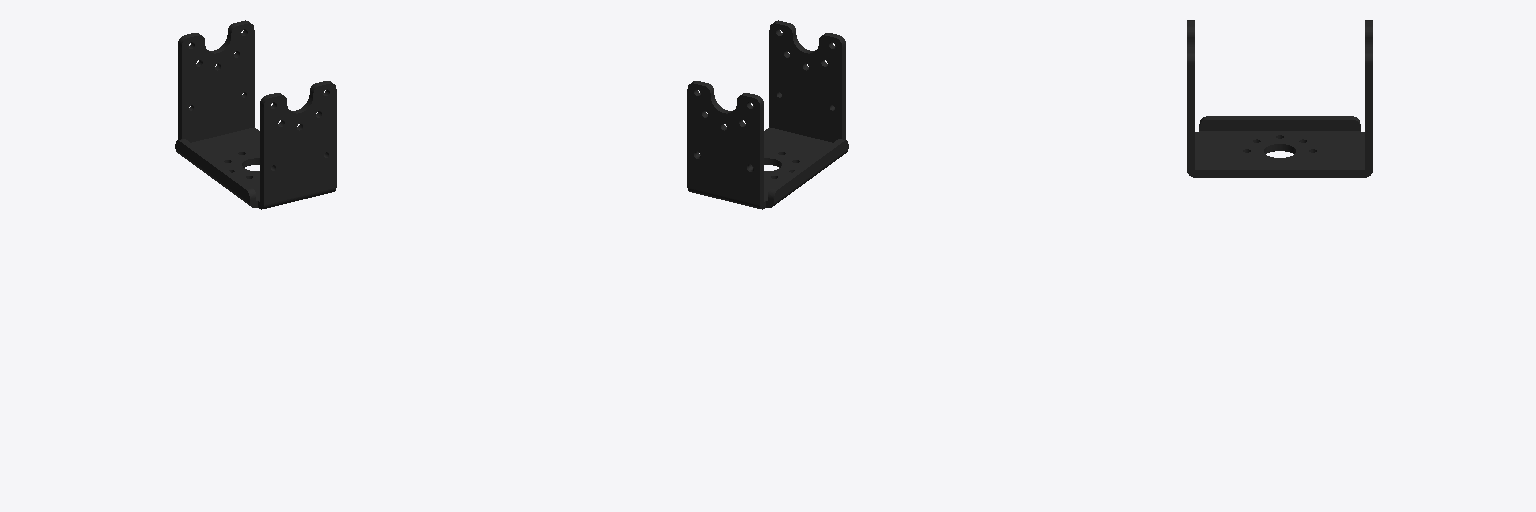
--- Facts derived from the render (not from the file) ---
The picture shows the robot from 3 angles, left to right: view 1: azimuth 30°, elevation 25°; view 2: azimuth 150°, elevation 25°; view 3: azimuth 270°, elevation 25°; orthographic projection.
Model Minibot with 30 links and 29 joints (20 revolute, 9 fixed), rooted at base_link, posed every joint at zero.
Links seen in each view (by area): view 1: L_HEAD_PAN; view 2: L_HEAD_PAN; view 3: L_HEAD_PAN.
Boxes of the visible links, x1,y1,x2,y2 form: L_HEAD_PAN: (175, 20, 336, 209); L_HEAD_PAN: (687, 20, 848, 209); L_HEAD_PAN: (1187, 20, 1372, 177).
Size in the robot's own frame: 24.5 by 45 by 124 metres.
14 mesh visuals loaded from 12 distinct referenced files (6 binary STL, 2 Collada DAE); not drawn: 7 (reference not matched to a file when rendering).

robot.urdf — Minibot:
<?xml version="1.0" ?>
<!-- =================================================================================== -->
<!-- |    This document was autogenerated by xacro from minibot_renamed.urdf.xacro     | -->
<!-- |    EDITING THIS FILE BY HAND IS NOT RECOMMENDED                                 | -->
<!-- =================================================================================== -->
<robot name="Minibot" xmlns:xacro="http://www.ros.org/wiki/xacro">
  <!-- position (0) or effort(1) joint interfaces -->
  <link name="base_link"/>
  <joint name="base_link_to_body" type="fixed">
    <parent link="base_link"/>
    <child link="trunk_link"/>
    <origin rpy="0 0 0" xyz="0 0 0.545"/>
  </joint>
  <link name="trunk_link">
    <inertial>
      <origin rpy=" 1.5707963268 0 1.5707963268" xyz="-0.025019 0.000832 -0.054364"/>
      <mass value="1.423"/>
      <!--<inertia ixx="0.009125471"  ixy="0.000053223"  ixz="-0.000006850" iyy="0.005276569" iyz="0.000672794" izz="0.010426914" />-->
      <inertia ixx="0.009125471" ixy="0.0" ixz="0" iyy="0.005276569" iyz="0.0" izz="0.010426914"/>
      <!--<inertia ixx="0.001"  ixy="0.001"  ixz="0.001" iyy="0.001" iyz="0.001" izz="0.001" />-->
    </inertial>
    <visual>
      <origin rpy="1.5707963268 0 1.5707963268" xyz="0 0 0"/>
      <geometry>
        <mesh filename="package://minibot_description/meshes/torso_low.dae" scale="1 1 1"/>
      </geometry>
      <material name="Grey">
        <color rgba="0.20 0.20 0.20 1.0"/>
      </material>
    </visual>
    <collision>
      <origin rpy="1.5707963268 0 1.5707963268" xyz="0 0 0"/>
      <geometry>
        <mesh filename="package://minibot_description/meshes/torso_coll.dae" scale="1 1 1"/>
      </geometry>
    </collision>
     --&gt;
  
  </link>
  <link name="L_HEAD_PAN">
    <inertial>
      <origin xyz="0.000002 -0.001022 0.008994"/>
      <mass value="0.001"/>
      <inertia ixx="0" ixy="0" ixz="0" iyy="0" iyz="0" izz="0"/>
      <!--<mass value="0.012"/>-->
      <!--<inertia ixx="0.000001769"  ixy="0.0"  ixz="0.0" iyy="0.000004625" iyz="-0.000000082" izz="0.000005125" />-->
      <!--<inertia ixx="${insu*0.1+infa*0.000001769}"  ixy="0.0"  ixz="0" iyy="${insu*0.1+infa*0.000004625}" iyz="0.0" izz="${insu*0.1+infa*0.000005125}" />-->
      <!--<inertia ixx="0.001"  ixy="0.001"  ixz="0.001" iyy="0.001" iyz="0.001" izz="0.001" />-->
    </inertial>
    <visual>
      <origin rpy="1.5707963268 0 0" xyz="0 0 0"/>
      <geometry>
        <mesh filename="package://minibot_description/meshes/head_lower_high.stl" scale="1 1 1"/>
      </geometry>
      <material name="Grey">
        <color rgba="0.20 0.20 0.20 1.0"/>
      </material>
    </visual>
    <collision>
      <origin rpy="1.5707963268 0 0" xyz="0 0 0"/>
      <geometry>
        <mesh filename="package://minibot_description/meshes/head_lower_coll.dae" scale="1 1 1"/>
      </geometry>
    </collision>
  </link>
  <link name="L_HEAD_TILT">
    <inertial>
      <origin rpy="0 1.5707963268 0" xyz="-0.000223 -0.028433 0.0"/>
      <mass value="0.001"/>
      <inertia ixx="0" ixy="0" ixz="0" iyy="0" iyz="0" izz="0"/>
      <!--<mass value="0.139"/>
      <inertia ixx="${insu*0.1+infa*0.000097954}"  ixy="0"  ixz="0" iyy="${insu*0.1+infa*0.000025415}" iyz="0" izz="${insu*0.1+infa*0.000107764}" /> -->
      <!--<inertia ixx="0.001"  ixy="0.001"  ixz="0.001" iyy="0.001" iyz="0.001" izz="0.001" />-->
    </inertial>
    <visual>
      <origin rpy="3.14 1.5707963268 0" xyz="0 0 0"/>
      <geometry>
        <mesh filename="package://minibot_description/meshes/head_upper_high.stl" scale="1 1 1"/>
      </geometry>
      <material name="Grey">
        <color rgba="0.20 0.20 0.20 1.0"/>
      </material>
    </visual>
    <collision>
      <origin rpy="3.14 1.5707963268 0" xyz="0 0 0"/>
      <geometry>
        <mesh filename="package://minibot_description/meshes/head_upper_coll.dae" scale="1 1 1"/>
      </geometry>
    </collision>
  </link>
  <link name="L_SHOULDER_PITCH_L">
    <inertial>
      <origin xyz="0.0 0.0 0.0087"/>
      <mass value="0.018"/>
      <inertia ixx="6.948e-06" ixy="0" ixz="0" iyy="7.574e-06" iyz="0" izz="3.585e-06"/>
      <!--<inertia ixx="0.001"  ixy="0.001"  ixz="0.001" iyy="0.001" iyz="0.001" izz="0.001" />-->
    </inertial>
    <visual>
      <origin rpy="0 1.5707963268 1.5707963268" xyz="0 0 0"/>
      <geometry>
        <!--box size="0.016 0.033 0.02165" /-->
        <mesh filename="package://minibot_description/meshes/shoulder_con_high.stl" scale="1 1 1"/>
      </geometry>
      <material name="Grey">
        <color rgba="0.20 0.20 0.20 1.0"/>
      </material>
    </visual>
    <collision>
      <origin rpy="0 1.5707963268 1.5707963268" xyz="0 0 0"/>
      <geometry>
        <mesh filename="package://minibot_description/meshes/shoulder_con_coll.dae" scale="1 1 1"/>
      </geometry>
    </collision>
  </link>
  <link name="L_SHOULDER_ROLL_L">
    <inertial>
      <origin xyz="-0.071053 0.000432 0.000046"/>
      <mass value="0.190"/>
      <!--<inertia ixx="0.0000409"  ixy="-0.000005512"  ixz="0.000003819" iyy="0.000667366" iyz="0.000000024" izz="0.000664711" />-->
      <inertia ixx="4.09e-05" ixy="0" ixz="0" iyy="0.000667366" iyz="0" izz="0.000664711"/>
      <!--<inertia ixx="0.001"  ixy="0.001"  ixz="0.001" iyy="0.001" iyz="0.001" izz="0.001" />-->
    </inertial>
    <visual>
      <origin rpy="0 0 -1.5707963268" xyz="0 0 0"/>
      <geometry>
        <mesh filename="package://minibot_description/meshes/upper_arm_high.dae" scale="1 1 1"/>
      </geometry>
      <material name="Grey">
        <color rgba="0.20 0.20 0.20 1.0"/>
      </material>
    </visual>
    <collision>
      <origin rpy="0 0 -1.5707963268" xyz="0 0 0"/>
      <geometry>
        <mesh filename="package://minibot_description/meshes/upper_arm_coll.dae" scale="1 1 1"/>
      </geometry>
    </collision>
  </link>
  <link name="L_ELBOW_L">
    <inertial>
      <origin rpy="0 0 -3.141" xyz="-0.108 0.0 0.0"/>
      <mass value="0.097"/>
      <inertia ixx="4.315e-05" ixy="0" ixz="0" iyy="0.000170889" iyz="0" izz="0.000179088"/>
      <!--<inertia ixx="0.001"  ixy="0.001"  ixz="0.001" iyy="0.001" iyz="0.001" izz="0.001" />-->
    </inertial>
    <visual>
      <origin rpy="0 1.5707963268 -1.5707963268" xyz="0 0 0"/>
      <geometry>
        <mesh filename="package://minibot_description/meshes/lower_arm_high.stl" scale="1 1 1"/>
      </geometry>
      <material name="Grey">
        <color rgba="0.20 0.20 0.20 1.0"/>
      </material>
    </visual>
    <collision>
      <origin rpy="0 1.5707963268 -1.5707963268" xyz="0 0 0"/>
      <geometry>
        <mesh filename="package://minibot_description/meshes/lower_arm_coll.dae" scale="1 1 1"/>
      </geometry>
    </collision>
  </link>
  <link name="L_SHOULDER_PITCH_R">
    <inertial>
      <origin xyz="0.0 0.0 0.0087"/>
      <mass value="0.018"/>
      <inertia ixx="6.948e-06" ixy="0" ixz="0" iyy="7.574e-06" iyz="0" izz="3.585e-06"/>
      <!--<inertia ixx="0.001"  ixy="0.001"  ixz="0.001" iyy="0.001" iyz="0.001" izz="0.001" />-->
    </inertial>
    <visual>
      <origin rpy="0 1.5707963268 1.5707963268" xyz="0 0 0"/>
      <geometry>
        <!--box size="0.016 0.033 0.02165" /-->
        <mesh filename="package://minibot_description/meshes/shoulder_con_high.stl" scale="1 1 1"/>
      </geometry>
      <material name="Grey">
        <color rgba="0.20 0.20 0.20 1.0"/>
      </material>
    </visual>
    <collision>
      <origin rpy="0 1.5707963268 1.5707963268" xyz="0 0 0"/>
      <geometry>
        <mesh filename="package://minibot_description/meshes/shoulder_con_coll.dae" scale="1 1 1"/>
      </geometry>
    </collision>
  </link>
  <link name="L_SHOULDER_ROLL_R">
    <inertial>
      <origin xyz="-0.071053 0.000432 0.000046"/>
      <mass value="0.190"/>
      <!--<inertia ixx="0.0000409"  ixy="-0.000005512"  ixz="0.000003819" iyy="0.000667366" iyz="0.000000024" izz="0.000664711" />-->
      <inertia ixx="4.09e-05" ixy="0" ixz="0" iyy="0.000667366" iyz="0" izz="0.000664711"/>
      <!--<inertia ixx="0.001"  ixy="0.001"  ixz="0.001" iyy="0.001" iyz="0.001" izz="0.001" />-->
    </inertial>
    <visual>
      <origin rpy="0 0 -1.5707963268" xyz="0 0 0"/>
      <geometry>
        <!--box size="0.06 0.032 0.035"/-->
        <mesh filename="package://minibot_description/meshes/upper_arm_high.dae" scale="1 1 1"/>
      </geometry>
      <material name="Grey">
        <color rgba="0.20 0.20 0.20 1.0"/>
      </material>
    </visual>
    <collision>
      <origin rpy="0 0 -1.5707963268" xyz="0 0 0"/>
      <geometry>
        <mesh filename="package://minibot_description/meshes/upper_arm_coll.dae" scale="1 1 1"/>
      </geometry>
    </collision>
  </link>
  <link name="L_ELBOW_R">
    <inertial>
      <!--<origin xyz="0.108 0.0 0.0" rpy="0 1.5707963268 1.5707963268"/>-->
      <origin xyz="0.108 0.0 0.0"/>
      <mass value="0.097"/>
      <inertia ixx="4.315e-05" ixy="0" ixz="0" iyy="0.000170889" iyz="0" izz="0.000179088"/>
      <!--<inertia ixx="0.001"  ixy="0.001"  ixz="0.001" iyy="0.001" iyz="0.001" izz="0.001" />-->
    </inertial>
    <visual>
      <origin rpy="0 1.5707963268 1.5707963268" xyz="0 0 0"/>
      <geometry>
        <mesh filename="package://minibot_description/meshes/lower_arm_high.stl" scale="1 1 1"/>
      </geometry>
      <material name="Grey">
        <color rgba="0.20 0.20 0.20 1.0"/>
      </material>
    </visual>
    <collision>
      <origin rpy="0 1.5707963268 1.5707963268" xyz="0 0 0"/>
      <geometry>
        <mesh filename="package://minibot_description/meshes/lower_arm_coll.dae" scale="1 1 1"/>
      </geometry>
    </collision>
  </link>
  <link name="L_HIP_YAW_L">
    <inertial>
      <origin rpy="1.5707963268 0 1.5707963268" xyz="0.0 0.0 0.011"/>
      <mass value="0.022"/>
      <inertia ixx="1.4143e-05" ixy="0" ixz="0" iyy="1.3017e-05" iyz="0" izz="5.2e-06"/>
      <!--<inertia ixx="0.001"  ixy="0.001"  ixz="0.001" iyy="0.001" iyz="0.001" izz="0.001" />-->
    </inertial>
    <visual>
      <origin rpy="1.5707963268 0 0" xyz="0 0 0"/>
      <geometry>
        <!--box size="0.045 0.08175 0.028652" /-->
        <mesh filename="package://minibot_description/meshes/yaw_con_high.stl" scale="1 1 1"/>
      </geometry>
      <material name="Grey">
        <color rgba="0.20 0.20 0.20 1.0"/>
      </material>
    </visual>
    <collision>
      <origin rpy="1.5707963268 0 0" xyz="0 0 0"/>
      <geometry>
        <mesh filename="package://minibot_description/meshes/yaw_con_coll.dae" scale="1 1 1"/>
      </geometry>
    </collision>
  </link>
  <link name="L_HIP_ROLL_L">
    <inertial>
      <origin xyz="-0.00057 -0.013721 0.02013 "/>
      <mass value="0.325"/>
      <!--<inertia ixx="0.000315619"  ixy="0.000001631"  ixz="0.000002302" iyy="0.000280296" iyz="-0.000009041" izz="0.0001431" />-->
      <inertia ixx="0.000315619" ixy="0" ixz="0" iyy="0.000280296" iyz="0" izz="0.0001431"/>
      <!--<inertia ixx="0.001"  ixy="0.001"  ixz="0.001" iyy="0.001" iyz="0.001" izz="0.001" />-->
    </inertial>
    <visual>
      <origin rpy="0 3.14 0" xyz="0 0 -0.025"/>
      <geometry>
        <!--box size="0.001 0.001 0.001"/-->
        <mesh filename="package://minibot_description/meshes/hip_roll_low.dae" scale="1 1 1"/>
      </geometry>
      <material name="Grey">
        <color rgba="0.20 0.20 0.20 1.0"/>
      </material>
    </visual>
    <collision>
      <origin rpy="0 3.14 0" xyz="0 0 -0.025"/>
      <geometry>
        <mesh filename="package://minibot_description/meshes/hip_roll_coll.dae" scale="1 1 1"/>
      </geometry>
    </collision>
  </link>
  <link name="L_HIP_PITCH_L">
    <inertial>
      <origin rpy="0 1.5707963268 1.5707963268" xyz="-0.12799 -0.000699 0.000454"/>
      <mass value="0.215"/>
      <!--<inertia ixx="0.000295153"  ixy="-0.000003736"  ixz="-0.000000065" iyy="0.000085463" iyz="-0.000003231" izz="0.000344449" />-->
      <inertia ixx="0.000295153" ixy="0" ixz="0" iyy="8.5463e-05" iyz="0" izz="0.000344449"/>
      <!--<inertia ixx="0.001"  ixy="0.001"  ixz="0.001" iyy="0.001" iyz="0.001" izz="0.001" />-->
    </inertial>
    <visual>
      <origin rpy="1.5707963268 1.5707963268 0" xyz="0 0 0"/>
      <geometry>
        <!--box size="0.093 0.035 0.045"-->
        <mesh filename="package://minibot_description/meshes/upper_leg_high.stl" scale="1 1 1"/>
      </geometry>
      <material name="Grey">
        <color rgba="0.20 0.20 0.20 1.0"/>
      </material>
    </visual>
    <collision>
      <origin rpy="1.5707963268 1.5707963268 0" xyz="0 0 0"/>
      <geometry>
        <mesh filename="package://minibot_description/meshes/upper_leg_coll.dae" scale="1 1 1"/>
      </geometry>
    </collision>
  </link>
  <link name="L_KNEE_L">
    <inertial>
      <origin rpy="0 1.5707963268 1.5707963268" xyz="-0.072079 -0.00295 0.0"/>
      <mass value="0.055"/>
      <!--<inertia ixx="0.000094062"  ixy="0.0"  ixz="0.0" iyy="0.000043139" iyz="-0.000002344" izz="0.000125827" />-->
      <inertia ixx="9.4062e-05" ixy="0" ixz="0" iyy="4.3139e-05" iyz="0" izz="0.000125827"/>
      <!--<inertia ixx="0.001"  ixy="0.001"  ixz="0.001" iyy="0.001" iyz="0.001" izz="0.001" />-->
    </inertial>
    <visual>
      <origin rpy="1.5707963268 1.5707963268 0" xyz="0 0 0"/>
      <geometry>
        <!--box size="0.093 0.035 0.045"/-->
        <mesh filename="package://minibot_description/meshes/lower_leg_high.stl" scale="1 1 1"/>
      </geometry>
      <material name="Grey">
        <color rgba="0.20 0.20 0.20 1.0"/>
      </material>
    </visual>
    <collision>
      <origin rpy="1.5707963268 1.5707963268 0" xyz="0 0 0"/>
      <geometry>
        <mesh filename="package://minibot_description/meshes/lower_leg_coll.dae" scale="1 1 1"/>
      </geometry>
    </collision>
  </link>
  <link name="L_ANKLE_PITCH_L">
    <inertial>
      <origin rpy="1.5707963268 1.5707963268 0" xyz="0.014045 -0.020134 -0.000053"/>
      <mass value="0.325"/>
      <!--<inertia ixx="0.00041644"  ixy="-0.000001658"  ixz="0.000002316" iyy="0.0002803" iyz="0.0000095" izz="0.000144" />-->
      <inertia ixx="0.000315619" ixy="0" ixz="0" iyy="0.000280296" iyz="0" izz="0.0001431"/>
      <!--<inertia ixx="0.001"  ixy="0.001"  ixz="0.001" iyy="0.001" iyz="0.001" izz="0.001" />-->
    </inertial>
    <visual>
      <origin rpy="3.14 -1.5707963268 1.5707963268" xyz="0 0 0"/>
      <geometry>
        <!--box size="0.028652 0.08175 0.045"/-->
        <mesh filename="package://minibot_description/meshes/ankle_roll_low.dae" scale="1 1 1"/>
      </geometry>
      <material name="Grey">
        <color rgba="0.20 0.20 0.20 1.0"/>
      </material>
    </visual>
    <collision>
      <origin rpy="3.14 -1.5707963268 1.5707963268" xyz="0 0 0"/>
      <geometry>
        <mesh filename="package://minibot_description/meshes/ankle_roll_coll.dae" scale="1 1 1"/>
      </geometry>
    </collision>
  </link>
  <link name="L_ANKLE_ROLL_L">
    <inertial>
      <origin rpy="0 0 1.5707963268" xyz="-0.0364 0.0003 0.002423"/>
      <mass value="0.086"/>
      <inertia ixx="0.000165687" ixy="0" ixz="0" iyy="0.000197792" iyz="0" izz="4.318e-05"/>
      <!--<inertia ixx="0.001"  ixy="0.001"  ixz="0.001" iyy="0.001" iyz="0.001" izz="0.001" />-->
    </inertial>
    <visual>
      <origin rpy="0 0 -1.5707963268" xyz="0 0 -0.025"/>
      <geometry>
        <!--box size="0.008 0.066 0.104"/-->
        <mesh filename="package://minibot_description/meshes/foot_high.stl" scale="1 1 1"/>
      </geometry>
      <material name="Grey">
        <color rgba="0.20 0.20 0.20 1.0"/>
      </material>
    </visual>
    <collision>
      <origin rpy="0 0 -1.5707963268" xyz="0 0 -0.025"/>
      <geometry>
        <mesh filename="package://minibot_description/meshes/foot_coll.dae" scale="1 1 1"/>
      </geometry>
    </collision>
  </link>
  <link name="L_HIP_YAW_R">
    <inertial>
      <origin rpy="1.5707963268 0 1.5707963268" xyz="0.0 0.0 0.011"/>
      <mass value="0.022"/>
      <inertia ixx="1.4143e-05" ixy="0" ixz="0" iyy="1.3017e-05" iyz="0" izz="5.2e-06"/>
      <!--<inertia ixx="0.001"  ixy="0.001"  ixz="0.001" iyy="0.001" iyz="0.001" izz="0.001" />-->
    </inertial>
    <visual>
      <origin rpy="1.5707963268 0 0" xyz="0 0 0"/>
      <geometry>
        <!--box size="0.045 0.08175 0.028652" /-->
        <mesh filename="package://minibot_description/meshes/yaw_con_high.stl" scale="1 1 1"/>
      </geometry>
      <material name="Grey">
        <color rgba="0.20 0.20 0.20 1.0"/>
      </material>
    </visual>
    <collision>
      <origin rpy="1.5707963268 0 0" xyz="0 0 0"/>
      <geometry>
        <mesh filename="package://minibot_description/meshes/yaw_con_coll.dae" scale="1 1 1"/>
      </geometry>
    </collision>
  </link>
  <link name="L_HIP_ROLL_R">
    <inertial>
      <origin xyz="-0.00057 -0.013721 0.02013 "/>
      <mass value="0.325"/>
      <!--<inertia ixx="0.000315619"  ixy="0.000001631"  ixz="0.000002302" iyy="0.000280296" iyz="-0.000009041" izz="0.0001431" />-->
      <inertia ixx="0.000315619" ixy="0" ixz="0" iyy="0.000280296" iyz="0" izz="0.0001431"/>
      <!--<inertia ixx="0.001"  ixy="0.001"  ixz="0.001" iyy="0.001" iyz="0.001" izz="0.001" />-->
    </inertial>
    <visual>
      <origin rpy="0 3.14 0" xyz="0 0 -0.025"/>
      <geometry>
        <!--box size="0.001 0.001 0.001"/-->
        <mesh filename="package://minibot_description/meshes/hip_roll_low.dae" scale="1 1 1"/>
      </geometry>
      <material name="Grey">
        <color rgba="0.20 0.20 0.20 1.0"/>
      </material>
    </visual>
    <collision>
      <origin rpy="0 3.14 0" xyz="0 0 -0.025"/>
      <geometry>
        <mesh filename="package://minibot_description/meshes/hip_roll_coll.dae" scale="1 1 1"/>
      </geometry>
    </collision>
  </link>
  <link name="L_HIP_PITCH_R">
    <inertial>
      <origin rpy="0 1.5707963268 1.5707963268" xyz="0.12799 -0.000699 0.000454"/>
      <mass value="0.215"/>
      <!--<inertia ixx="0.000295153"  ixy="-0.000003736"  ixz="-0.000000065" iyy="0.000085463" iyz="-0.000003231" izz="0.000344449" />-->
      <inertia ixx="0.000295153" ixy="0" ixz="0" iyy="8.5463e-05" iyz="0" izz="0.000344449"/>
      <!--<inertia ixx="0.001"  ixy="0.001"  ixz="0.001" iyy="0.001" iyz="0.001" izz="0.001" />-->
    </inertial>
    <visual>
      <origin rpy="1.5707963268 -1.5707963268 0" xyz="0 0 0"/>
      <geometry>
        <!--box size="0.093 0.035 0.045"/-->
        <mesh filename="package://minibot_description/meshes/upper_leg_high.stl" scale="1 1 1"/>
      </geometry>
      <material name="Grey">
        <color rgba="0.20 0.20 0.20 1.0"/>
      </material>
    </visual>
    <collision>
      <origin rpy="1.5707963268 -1.5707963268 0" xyz="0 0 0"/>
      <geometry>
        <mesh filename="package://minibot_description/meshes/upper_leg_coll.dae" scale="1 1 1"/>
      </geometry>
    </collision>
  </link>
  <link name="L_KNEE_R">
    <inertial>
      <origin rpy="0 1.5707963268 1.5707963268" xyz="0.072079 -0.00295 0.0"/>
      <mass value="0.055"/>
      <!--<inertia ixx="0.000094062"  ixy="0.0"  ixz="0.0" iyy="0.000043139" iyz="-0.000002344" izz="0.000125827" />-->
      <inertia ixx="9.4062e-05" ixy="0" ixz="0" iyy="4.3139e-05" iyz="0" izz="0.000125827"/>
      <!--<inertia ixx="0.001"  ixy="0.001"  ixz="0.001" iyy="0.001" iyz="0.001" izz="0.001" />-->
    </inertial>
    <visual>
      <origin rpy="1.5707963268 -1.5707963268 0" xyz="0 0 0"/>
      <geometry>
        <!--box size="0.093 0.035 0.045"/-->
        <mesh filename="package://minibot_description/meshes/lower_leg_high.stl" scale="1 1 1"/>
      </geometry>
      <material name="Grey">
        <color rgba="0.20 0.20 0.20 1.0"/>
      </material>
    </visual>
    <collision>
      <origin rpy="1.5707963268 -1.5707963268 0" xyz="0 0 0"/>
      <geometry>
        <mesh filename="package://minibot_description/meshes/lower_leg_coll.dae" scale="1 1 1"/>
      </geometry>
    </collision>
  </link>
  <link name="L_ANKLE_PITCH_R">
    <inertial>
      <origin rpy="1.5707963268 1.5707963268 0" xyz="-0.014045 -0.020134 -0.000053"/>
      <mass value="0.325"/>
      <!--<inertia ixx="0.00041644"  ixy="-0.000001658"  ixz="0.000002316" iyy="0.0002803" iyz="0.0000095" izz="0.000144" />-->
      <inertia ixx="0.000315619" ixy="0" ixz="0" iyy="0.000280296" iyz="0" izz="0.0001431"/>
      <!--<inertia ixx="0.001"  ixy="0.001"  ixz="0.001" iyy="0.001" iyz="0.001" izz="0.001" />-->
    </inertial>
    <visual>
      <origin rpy="0 1.5707963268 1.5707963268" xyz="0 0 0"/>
      <geometry>
        <!--box size="0.028652 0.08175 0.045"/-->
        <mesh filename="package://minibot_description/meshes/ankle_roll_low.dae" scale="1 1 1"/>
      </geometry>
      <material name="Grey">
        <color rgba="0.20 0.20 0.20 1.0"/>
      </material>
    </visual>
    <collision>
      <origin rpy="0 1.5707963268 1.5707963268" xyz="0 0 0"/>
      <geometry>
        <mesh filename="package://minibot_description/meshes/ankle_roll_coll.dae" scale="1 1 1"/>
      </geometry>
    </collision>
  </link>
  <link name="L_ANKLE_ROLL_R">
    <inertial>
      <origin rpy="0 0 1.5707963268" xyz="0.0364 0.0003 0.002423"/>
      <mass value="0.086"/>
      <inertia ixx="0.000165687" ixy="0" ixz="0" iyy="0.000197792" iyz="0" izz="4.318e-05"/>
      <!--<inertia ixx="0.001"  ixy="0.001"  ixz="0.001" iyy="0.001" iyz="0.001" izz="0.001" />-->
    </inertial>
    <visual>
      <origin rpy="0 0 1.5707963268" xyz="0 0 -0.025"/>
      <geometry>
        <!--box size="0.008 0.066 0.104"/-->
        <mesh filename="package://minibot_description/meshes/foot_high.stl" scale="1 1 1"/>
      </geometry>
      <material name="Grey">
        <color rgba="0.20 0.20 0.20 1.0"/>
      </material>
    </visual>
    <collision>
      <origin rpy="0 0 1.5707963268" xyz="0 0 -0.025"/>
      <geometry>
        <mesh filename="package://minibot_description/meshes/foot_coll.dae" scale="1 1 1"/>
      </geometry>
    </collision>
  </link>
  <link name="L_CAMERA"/>
  <link name="L_Hand_L"/>
  <link name="L_Hand_R"/>
  <link name="left_foot_sole_link"/>
  <link name="right_foot_sole_link"/>
  <link name="L_FOOT_FRONT_L"/>
  <link name="L_FOOT_FRONT_R"/>
  <link name="L_IMU">
  </link>
  <joint name="j_imu" type="fixed">
    <parent link="trunk_link"/>
    <child link="L_IMU"/>
    <origin rpy="0 0 0" xyz="-0.03 0 -0.05"/>
    <axis xyz="0 0 1"/>
  </joint>
  <joint name="j_camboard" type="fixed">
    <parent link="L_HEAD_TILT"/>
    <child link="L_CAMERA"/>
    <origin rpy="-1.5707963 0 3.14159" xyz="0 -0.055 0 "/>
    <axis xyz="0 0 1"/>
  </joint>
  <joint name="head_pitch" type="revolute">
    <parent link="L_HEAD_PAN"/>
    <child link="L_HEAD_TILT"/>
    <origin rpy="-1.5707963 0 1.5707963" xyz="0 0 0.02715"/>
    <axis xyz="0 0 1"/>
    <limit effort="2.5" lower="-1.5707963267910001" upper="0" velocity="5.6548668"/>
    <dynamics damping="0" friction="0.0"/>
  </joint>
  <joint name="head_yaw" type="revolute">
    <parent link="trunk_link"/>
    <child link="L_HEAD_PAN"/>
    <origin rpy="0 0 1.5707963" xyz="0 0 0.050593"/>
    <axis xyz="0 0 1"/>
    <limit effort="2.5" lower="-2.1816615649875" upper="2.1816615649875" velocity="5.6548668"/>
    <dynamics damping="0" friction="0.0"/>
  </joint>
  <joint name="left_shoulder_pitch" type="revolute">
    <parent link="trunk_link"/>
    <child link="L_SHOULDER_PITCH_L"/>
    <origin rpy="0 -1.5707963 -1.5707963" xyz="0 0.08134 0"/>
    <axis xyz="0 0 1"/>
    <limit effort="6.0" lower="-3.1415926535820002" upper="3.1415926535820002" velocity="6.597344565"/>
    <dynamics damping="0" friction="0.0"/>
  </joint>
  <joint name="left_shoulder_roll" type="revolute">
    <parent link="L_SHOULDER_PITCH_L"/>
    <child link="L_SHOULDER_ROLL_L"/>
    <origin rpy="-1.5707963 0.7853981633955001 0" xyz="0 0 0.029194"/>
    <axis xyz="0 0 -1"/>
    <limit effort="2.5" lower="-2.3561944901865" upper="0.7853981633955001" velocity="5.648668"/>
    <dynamics damping="0" friction="0.0"/>
  </joint>
  <joint name="left_elbow" type="revolute">
    <parent link="L_SHOULDER_ROLL_L"/>
    <child link="L_ELBOW_L"/>
    <origin rpy="1.5707963 1.5707963 0" xyz="-0.14 0 0"/>
    <axis xyz="0 0 1"/>
    <limit effort="2.5" lower="-1.1344640137935" upper="1.5707963267910001" velocity="5.6548668"/>
    <dynamics damping="0" friction="0.0"/>
  </joint>
  <joint name="j_LHand" type="fixed">
    <parent link="L_ELBOW_L"/>
    <child link="L_Hand_L"/>
    <origin rpy="0 0 3.14159" xyz="-0.1573 0 0"/>
  </joint>
  <joint name="right_shoulder_pitch" type="revolute">
    <parent link="trunk_link"/>
    <child link="L_SHOULDER_PITCH_R"/>
    <origin rpy="0 1.5707963 -1.5707963" xyz="0 -0.08134 0"/>
    <axis xyz="0 0 1"/>
    <limit effort="6.0" lower="-3.1415926535820002" upper="3.1415926535820002" velocity="6.597344565"/>
    <dynamics damping="0" friction="0.0"/>
  </joint>
  <joint name="right_shoulder_roll" type="revolute">
    <parent link="L_SHOULDER_PITCH_R"/>
    <child link="L_SHOULDER_ROLL_R"/>
    <origin rpy="-1.5707963 2.356194463 0" xyz="0 0 0.029194"/>
    <axis xyz="0 0 -1"/>
    <limit effort="2.5" lower="-0.7853981633955001" upper="2.3561944901865" velocity="5.648668"/>
    <dynamics damping="0" friction="0.0"/>
  </joint>
  <joint name="right_elbow" type="revolute">
    <parent link="L_SHOULDER_ROLL_R"/>
    <child link="L_ELBOW_R"/>
    <origin rpy="-1.5707963 -1.5707963 0" xyz="-0.14 0 0"/>
    <axis xyz="0 0 1"/>
    <limit effort="2.5" lower="-1.635" upper="1.5707963267910001" velocity="5.6548668"/>
    <dynamics damping="0" friction="0.0"/>
  </joint>
  <joint name="j_RHand" type="fixed">
    <parent link="L_ELBOW_R"/>
    <child link="L_Hand_R"/>
    <origin xyz="0.1573 0 0"/>
  </joint>
  <joint name="left_hip_yaw" type="revolute">
    <parent link="trunk_link"/>
    <child link="L_HIP_YAW_L"/>
    <origin rpy="0 3.14159 3.14159" xyz="-0.022 0.057775 -0.160593"/>
    <axis xyz="0 0 1"/>
    <limit effort="2.5" lower="-0.9250245035547" upper="0.9250245035547" velocity="5.6548668"/>
    <dynamics damping="0" friction="0.0"/>
  </joint>
  <joint name="left_hip_roll" type="revolute">
    <parent link="L_HIP_YAW_L"/>
    <child link="L_HIP_ROLL_L"/>
    <origin rpy="-1.5707963 0 1.5707963" xyz="-0.025 0 0.038444"/>
    <axis xyz="0 0 -1"/>
    <limit effort="6.0" lower="-1.0122909661542001" upper="0.7853981633955001" velocity="6.597344565"/>
    <dynamics damping="0" friction="0.0"/>
  </joint>
  <joint name="left_hip_pitch" type="revolute">
    <parent link="L_HIP_ROLL_L"/>
    <child link="L_HIP_PITCH_L"/>
    <origin rpy="1.5707963 0 1.5707963" xyz="0 0 -0.025"/>
    <axis xyz="0 0 -1"/>
    <limit effort="8.4" lower="-0.48869219055720003" upper="1.919862177189" velocity="4.712388975"/>
    <dynamics damping="0" friction="0.0"/>
  </joint>
  <joint name="left_knee" type="revolute">
    <parent link="L_HIP_PITCH_L"/>
    <child link="L_KNEE_L"/>
    <origin rpy="0 0 0" xyz="-0.150 0 0"/>
    <axis xyz="0 0 -1"/>
    <!--<limit effort="${tofa*8.4}" velocity="4.712388975" lower="-2.268928027587" upper="0" />-->
    <limit effort="8.4" lower="-3.14" upper="3.14" velocity="4.712388975"/>
    <dynamics damping="0" friction="0.0"/>
  </joint>
  <joint name="left_ankle_pitch" type="revolute">
    <parent link="L_KNEE_L"/>
    <child link="L_ANKLE_PITCH_L"/>
    <origin rpy="3.14159 0 0" xyz="-0.150 0 0"/>
    <axis xyz="0 0 1"/>
    <limit effort="8.4" lower="-1.6406094968706" upper="1.2391837689129" velocity="4.712388975"/>
    <dynamics damping="0" friction="0.0"/>
  </joint>
  <joint name="left_ankle_roll" type="revolute">
    <parent link="L_ANKLE_PITCH_L"/>
    <child link="L_ANKLE_ROLL_L"/>
    <origin rpy="-1.5707963 0 0" xyz="0 0.0275 0"/>
    <axis xyz="0 0 1"/>
    <limit effort="6.0" lower="-1.4660765716716" upper="1.4660765716716" velocity="6.597344565"/>
    <dynamics damping="0" friction="0.0"/>
  </joint>
  <joint name="j_LFootBottom" type="fixed">
    <parent link="L_ANKLE_ROLL_L"/>
    <child link="left_foot_sole_link"/>
    <origin rpy="3.14159 -1.5707963 0" xyz="-0.040444 0 0"/>
  </joint>
  <joint name="j_LFootFront" type="fixed">
    <parent link="left_foot_sole_link"/>
    <child link="L_FOOT_FRONT_L"/>
    <origin xyz="0.0849 0 0 "/>
  </joint>
  <joint name="right_hip_yaw" type="revolute">
    <parent link="trunk_link"/>
    <child link="L_HIP_YAW_R"/>
    <origin rpy="0 3.14159 3.14159" xyz="-0.022 -0.057775 -0.160593"/>
    <axis xyz="0 0 1"/>
    <limit effort="2.5" lower="-0.9250245035547" upper="0.9250245035547" velocity="5.6548668"/>
    <dynamics damping="0" friction="0.0"/>
  </joint>
  <joint name="right_hip_roll" type="revolute">
    <parent link="L_HIP_YAW_R"/>
    <child link="L_HIP_ROLL_R"/>
    <origin rpy="-1.5707963 0 1.5707963" xyz="-0.025 0 0.038444"/>
    <axis xyz="0 0 -1"/>
    <limit effort="6.0" lower="-1.0122909661542001" upper="0.7853981633955001" velocity="6.597344565"/>
    <dynamics damping="0" friction="0.0"/>
  </joint>
  <joint name="right_hip_pitch" type="revolute">
    <parent link="L_HIP_ROLL_R"/>
    <child link="L_HIP_PITCH_R"/>
    <origin rpy="1.5707963 0 -1.5707963" xyz="0 0 -0.025"/>
    <axis xyz="0 0 1"/>
    <limit effort="8.4" lower="-1.919862177189" upper="0.48869219055720003" velocity="4.712388975"/>
    <dynamics damping="0" friction="0.0"/>
  </joint>
  <joint name="right_knee" type="revolute">
    <parent link="L_HIP_PITCH_R"/>
    <child link="L_KNEE_R"/>
    <origin rpy="0 0 0" xyz="0.150 0 0"/>
    <axis xyz="0 0 1"/>
    <!--<limit effort="${tofa*8.4}" velocity="4.712388975" lower="0" upper="2.268928027587" />-->
    <limit effort="8.4" lower="-3.14" upper="3.14" velocity="4.712388975"/>
    <dynamics damping="0" friction="0.0"/>
  </joint>
  <joint name="right_ankle_pitch" type="revolute">
    <parent link="L_KNEE_R"/>
    <child link="L_ANKLE_PITCH_R"/>
    <origin rpy="3.14159 0 0" xyz="0.150 0 0"/>
    <axis xyz="0 0 -1"/>
    <limit effort="8.4" lower="-1.2391837689129" upper="1.6406094968706" velocity="4.712388975"/>
    <dynamics damping="0" friction="0.0"/>
  </joint>
  <joint name="right_ankle_roll" type="revolute">
    <parent link="L_ANKLE_PITCH_R"/>
    <child link="L_ANKLE_ROLL_R"/>
    <origin rpy="-1.5707963 0 0" xyz="0 0.0275 0"/>
    <axis xyz="0 0 1"/>
    <limit effort="6.0" lower="-1.4660765716716" upper="1.4660765716716" velocity="6.597344565"/>
    <dynamics damping="0" friction="0.0"/>
  </joint>
  <joint name="j_RFootBottom" type="fixed">
    <parent link="L_ANKLE_ROLL_R"/>
    <child link="right_foot_sole_link"/>
    <origin rpy="0 -1.5707963 0" xyz="0.040444 0 0"/>
  </joint>
  <joint name="j_RFootFront" type="fixed">
    <parent link="right_foot_sole_link"/>
    <child link="L_FOOT_FRONT_R"/>
    <origin xyz="0.0849 0 0 "/>
  </joint>
  <transmission name="head_yawTransmission">
    <type>transmission_interface/SimpleTransmission</type>
    <joint name="head_yaw">
      <hardwareInterface>hardware_interface/EffortJointInterface</hardwareInterface>
    </joint>
    <actuator name="head_yawMotor">
      <hardwareInterface>hardware_interface/EffortJointInterface</hardwareInterface>
      <mechanicalReduction>1</mechanicalReduction>
    </actuator>
  </transmission>
  <transmission name="head_pitchTransmission">
    <type>transmission_interface/SimpleTransmission</type>
    <joint name="head_pitch">
      <hardwareInterface>hardware_interface/EffortJointInterface</hardwareInterface>
    </joint>
    <actuator name="head_pitchMotor">
      <hardwareInterface>hardware_interface/EffortJointInterface</hardwareInterface>
      <mechanicalReduction>1</mechanicalReduction>
    </actuator>
  </transmission>
  <transmission name="left_shoulder_pitchTransmission">
    <type>transmission_interface/SimpleTransmission</type>
    <joint name="left_shoulder_pitch">
      <hardwareInterface>hardware_interface/EffortJointInterface</hardwareInterface>
    </joint>
    <actuator name="left_shoulder_pitchMotor">
      <hardwareInterface>hardware_interface/EffortJointInterface</hardwareInterface>
      <mechanicalReduction>1</mechanicalReduction>
    </actuator>
  </transmission>
  <transmission name="left_shoulder_rollTransmission">
    <type>transmission_interface/SimpleTransmission</type>
    <joint name="left_shoulder_roll">
      <hardwareInterface>hardware_interface/EffortJointInterface</hardwareInterface>
    </joint>
    <actuator name="left_shoulder_rollTransmission">
      <hardwareInterface>hardware_interface/EffortJointInterface</hardwareInterface>
      <mechanicalReduction>1</mechanicalReduction>
    </actuator>
  </transmission>
  <transmission name="left_elbowTransmission">
    <type>transmission_interface/SimpleTransmission</type>
    <joint name="left_elbow">
      <hardwareInterface>hardware_interface/EffortJointInterface</hardwareInterface>
    </joint>
    <actuator name="left_elbowMotor">
      <hardwareInterface>hardware_interface/EffortJointInterface</hardwareInterface>
      <mechanicalReduction>1</mechanicalReduction>
    </actuator>
  </transmission>
  <transmission name="right_shoulder_pitchTransmission">
    <type>transmission_interface/SimpleTransmission</type>
    <joint name="right_shoulder_pitch">
      <hardwareInterface>hardware_interface/EffortJointInterface</hardwareInterface>
    </joint>
    <actuator name="right_shoulder_pitchMotor">
      <hardwareInterface>hardware_interface/EffortJointInterface</hardwareInterface>
      <mechanicalReduction>1</mechanicalReduction>
    </actuator>
  </transmission>
  <transmission name="right_shoulder_rollTransmission">
    <type>transmission_interface/SimpleTransmission</type>
    <joint name="right_shoulder_roll">
      <hardwareInterface>hardware_interface/EffortJointInterface</hardwareInterface>
    </joint>
    <actuator name="right_shoulder_rollMotor">
      <hardwareInterface>hardware_interface/EffortJointInterface</hardwareInterface>
      <mechanicalReduction>1</mechanicalReduction>
    </actuator>
  </transmission>
  <transmission name="right_elbowTransmission">
    <type>transmission_interface/SimpleTransmission</type>
    <joint name="right_elbow">
      <hardwareInterface>hardware_interface/EffortJointInterface</hardwareInterface>
    </joint>
    <actuator name="right_elbowMotor">
      <hardwareInterface>hardware_interface/EffortJointInterface</hardwareInterface>
      <mechanicalReduction>1</mechanicalReduction>
    </actuator>
  </transmission>
  <transmission name="left_hip_yawTransmission">
    <type>transmission_interface/SimpleTransmission</type>
    <joint name="left_hip_yaw">
      <hardwareInterface>hardware_interface/EffortJointInterface</hardwareInterface>
    </joint>
    <actuator name="left_hip_yawMotor">
      <hardwareInterface>hardware_interface/EffortJointInterface</hardwareInterface>
      <mechanicalReduction>1</mechanicalReduction>
    </actuator>
  </transmission>
  <transmission name="left_hip_rollTransmission">
    <type>transmission_interface/SimpleTransmission</type>
    <joint name="left_hip_roll">
      <hardwareInterface>hardware_interface/EffortJointInterface</hardwareInterface>
    </joint>
    <actuator name="left_hip_rollMotor">
      <hardwareInterface>hardware_interface/EffortJointInterface</hardwareInterface>
      <mechanicalReduction>1</mechanicalReduction>
    </actuator>
  </transmission>
  <transmission name="left_hip_pitchTransmission">
    <type>transmission_interface/SimpleTransmission</type>
    <joint name="left_hip_pitch">
      <hardwareInterface>hardware_interface/EffortJointInterface</hardwareInterface>
    </joint>
    <actuator name="left_hip_pitchMotor">
      <hardwareInterface>hardware_interface/EffortJointInterface</hardwareInterface>
      <mechanicalReduction>1</mechanicalReduction>
    </actuator>
  </transmission>
  <transmission name="left_kneeTransmission">
    <type>transmission_interface/SimpleTransmission</type>
    <joint name="left_knee">
      <hardwareInterface>hardware_interface/EffortJointInterface</hardwareInterface>
    </joint>
    <actuator name="left_kneeMotor">
      <hardwareInterface>hardware_interface/EffortJointInterface</hardwareInterface>
      <mechanicalReduction>1</mechanicalReduction>
    </actuator>
  </transmission>
  <transmission name="left_ankle_pitchTransmission">
    <type>transmission_interface/SimpleTransmission</type>
    <joint name="left_ankle_pitch">
      <hardwareInterface>hardware_interface/EffortJointInterface</hardwareInterface>
    </joint>
    <actuator name="left_ankle_pitchMotor">
      <hardwareInterface>hardware_interface/EffortJointInterface</hardwareInterface>
      <mechanicalReduction>1</mechanicalReduction>
    </actuator>
  </transmission>
  <transmission name="left_ankle_rollTransmission">
    <type>transmission_interface/SimpleTransmission</type>
    <joint name="left_ankle_roll">
      <hardwareInterface>hardware_interface/EffortJointInterface</hardwareInterface>
    </joint>
    <actuator name="left_ankle_rollMotor">
      <hardwareInterface>hardware_interface/EffortJointInterface</hardwareInterface>
      <mechanicalReduction>1</mechanicalReduction>
    </actuator>
  </transmission>
  <transmission name="right_hip_yawTransmission">
    <type>transmission_interface/SimpleTransmission</type>
    <joint name="right_hip_yaw">
      <hardwareInterface>hardware_interface/EffortJointInterface</hardwareInterface>
    </joint>
    <actuator name="right_hip_yawMotor">
      <hardwareInterface>hardware_interface/EffortJointInterface</hardwareInterface>
      <mechanicalReduction>1</mechanicalReduction>
    </actuator>
  </transmission>
  <transmission name="right_hip_rollTransmission">
    <type>transmission_interface/SimpleTransmission</type>
    <joint name="right_hip_roll">
      <hardwareInterface>hardware_interface/EffortJointInterface</hardwareInterface>
    </joint>
    <actuator name="right_hip_rollMotor">
      <hardwareInterface>hardware_interface/EffortJointInterface</hardwareInterface>
      <mechanicalReduction>1</mechanicalReduction>
    </actuator>
  </transmission>
  <transmission name="right_hip_pitchTransmission">
    <type>transmission_interface/SimpleTransmission</type>
    <joint name="right_hip_pitch">
      <hardwareInterface>hardware_interface/EffortJointInterface</hardwareInterface>
    </joint>
    <actuator name="right_hip_pitchMotor">
      <hardwareInterface>hardware_interface/EffortJointInterface</hardwareInterface>
      <mechanicalReduction>1</mechanicalReduction>
    </actuator>
  </transmission>
  <transmission name="right_kneeTransmission">
    <type>transmission_interface/SimpleTransmission</type>
    <joint name="right_knee">
      <hardwareInterface>hardware_interface/EffortJointInterface</hardwareInterface>
    </joint>
    <actuator name="right_kneeMotor">
      <hardwareInterface>hardware_interface/EffortJointInterface</hardwareInterface>
      <mechanicalReduction>1</mechanicalReduction>
    </actuator>
  </transmission>
  <transmission name="right_ankle_pitchTransmission">
    <type>transmission_interface/SimpleTransmission</type>
    <joint name="right_ankle_pitch">
      <hardwareInterface>hardware_interface/EffortJointInterface</hardwareInterface>
    </joint>
    <actuator name="right_ankle_pitchMotor">
      <hardwareInterface>hardware_interface/EffortJointInterface</hardwareInterface>
      <mechanicalReduction>1</mechanicalReduction>
    </actuator>
  </transmission>
  <transmission name="right_ankle_rollTransmission">
    <type>transmission_interface/SimpleTransmission</type>
    <joint name="right_ankle_roll">
      <hardwareInterface>hardware_interface/EffortJointInterface</hardwareInterface>
    </joint>
    <actuator name="right_ankle_rollMotor">
      <hardwareInterface>hardware_interface/hardware_interface/EffortJointInterface</hardwareInterface>
      <mechanicalReduction>1</mechanicalReduction>
    </actuator>
  </transmission>
  <gazebo reference="trunk_link">
    <material>Gazebo/Grey</material>
  </gazebo>
  <gazebo reference="L_HEAD_PAN">
    <material>Gazebo/Grey</material>
  </gazebo>
  <gazebo reference="L_HEAD_TILT">
    <material>Gazebo/Grey</material>
  </gazebo>
  <gazebo reference="L_SHOULDER_L">
    <material>Gazebo/Grey</material>
  </gazebo>
  <gazebo reference="L_SHOULDER_PITCH_L">
    <material>Gazebo/Grey</material>
  </gazebo>
  <gazebo reference="L_SHOULDER_ROLL_L">
    <material>Gazebo/Grey</material>
  </gazebo>
  <gazebo reference="L_ELBOW_L">
    <material>Gazebo/Grey</material>
  </gazebo>
  <gazebo reference="L_SHOULDER_R">
    <material>Gazebo/Grey</material>
  </gazebo>
  <gazebo reference="L_SHOULDER_PITCH_R">
    <material>Gazebo/Grey</material>
  </gazebo>
  <gazebo reference="L_SHOULDER_ROLL_R">
    <material>Gazebo/Grey</material>
  </gazebo>
  <gazebo reference="L_ELBOW_R">
    <material>Gazebo/Grey</material>
  </gazebo>
  <gazebo reference="L_HIP_YAW_L">
    <material>Gazebo/Grey</material>
  </gazebo>
  <gazebo reference="L_HIP_ROLL_L">
    <material>Gazebo/Grey</material>
  </gazebo>
  <gazebo reference="L_HIP_PITCH_L">
    <material>Gazebo/Grey</material>
  </gazebo>
  <gazebo reference="L_KNEE_L">
    <material>Gazebo/Grey</material>
  </gazebo>
  <gazebo reference="L_ANKLE_PITCH_L">
    <material>Gazebo/Grey</material>
  </gazebo>
  <gazebo reference="L_ANKLE_ROLL_L">
    <material>Gazebo/Grey</material>
    <kp>1000000.0</kp>
    <kd>100.0</kd>
    <mu1>1.0</mu1>
    <mu2>1.0</mu2>
    <fdir1>1 0 0</fdir1>
    <maxVel>1.0</maxVel>
    <minDepth>0.00</minDepth>
  </gazebo>
  <gazebo reference="L_HIP_YAW_R">
    <material>Gazebo/Grey</material>
  </gazebo>
  <gazebo reference="L_HIP_ROLL_R">
    <material>Gazebo/Grey</material>
  </gazebo>
  <gazebo reference="L_HIP_PITCH_R">
    <material>Gazebo/Grey</material>
  </gazebo>
  <gazebo reference="L_KNEE_R">
    <material>Gazebo/Grey</material>
  </gazebo>
  <gazebo reference="L_ANKLE_PITCH_R">
    <material>Gazebo/Grey</material>
  </gazebo>
  <gazebo reference="L_ANKLE_ROLL_R">
    <material>Gazebo/Grey</material>
    <kp>1000000.0</kp>
    <kd>100.0</kd>
    <mu1>1.0</mu1>
    <mu2>1.0</mu2>
    <fdir1>1 0 0</fdir1>
    <maxVel>1.0</maxVel>
    <minDepth>0.00</minDepth>
  </gazebo>
  <gazebo reference="L_CAMERA">
    <material>Gazebo/Grey</material>
    <self_collide>0</self_collide>
  </gazebo>
  <!-- joint controller -->
  <gazebo>
    <plugin filename="libgazebo_ros_control.so" name="gazebo_ros_control">
      <robotNamespace>minibot</robotNamespace>
    </plugin>
  </gazebo>
  <!-- camera sensor -->
  <gazebo reference="L_CAMERA">
    <sensor name="camera" type="camera">
      <pose>-0.050000 -0.010000 0.000000 -1.5708 0.000000 -3.141592</pose>
      <camera name="__default__">
        <horizontal_fov>1.012300</horizontal_fov>
        <image>
          <width>800</width>
          <height>600</height>
        </image>
        <clip>
          <near>0.001000</near>
          <far>100.000000</far>
        </clip>
      </camera>
      <always_on>1</always_on>
      <update_rate>30.000000</update_rate>
      <visualize>1</visualize>
      <plugin filename="libgazebo_ros_camera.so" name="camera_controller">
        <alwaysOn>true</alwaysOn>
        <updateRate>30</updateRate>
        <cameraName>camera</cameraName>
        <imageTopicName>image_raw</imageTopicName>
        <cameraInfoTopicName>camera_info</cameraInfoTopicName>
        <frameName>L_CAMERA</frameName>
        <hackBaseline>0.07</hackBaseline>
        <distortionK1>0.0</distortionK1>
        <distortionK2>0.0</distortionK2>
        <distortionK3>0.0</distortionK3>
        <distortionT1>0.0</distortionT1>
        <distortionT2>0.0</distortionT2>
      </plugin>
    </sensor>
  </gazebo>
  <!-- IMU sensor -->
  <gazebo reference="L_IMU">
    <gravity>true</gravity>
    <sensor name="imu_sensor" type="imu">
      <always_on>true</always_on>
      <update_rate>100</update_rate>
      <visualize>true</visualize>
      <topic>imu</topic>
      <plugin filename="libgazebo_ros_imu_sensor.so" name="imu_plugin">
        <topicName>imu</topicName>
        <bodyName>L_IMU</bodyName>
        <updateRateHZ>100.0</updateRateHZ>
        <gaussianNoise>0.0</gaussianNoise>
        <xyzOffset>0 0 0</xyzOffset>
        <rpyOffset>0 0 0</rpyOffset>
        <frameName>L_IMU</frameName>
      </plugin>
      <pose>0 0 0 0 0 0</pose>
    </sensor>
  </gazebo>
  <!--<gazebo>
    <plugin filename="libhector_gazebo_ros_imu.so" name="gazebo_ros_imu">
      <robotNamespace>minibot</robotNamespace>
      <bodyName>L_IMU</bodyName>
      <updateRate>50</updateRate>
      <serviceName>imu_service</serviceName>
      <topicName>imu</topicName>
      <gaussianNoise>0</gaussianNoise>
      <xyzOffset>0 0 0</xyzOffset>
      <rpyOffset>0 0 0</rpyOffset>
    </plugin>
  </gazebo>-->
  <!-- fake controller that allows us to move the robot and to get its oposition -->
  <!-- rostopic pub /minibot/cmd_vel geometry_msgs/Twist "{ linear: [ 0.1, 0, 0], angular: [0.2, 0, 0.1] }" -->
  <!--<gazebo>
    <plugin name="object_controller" filename="libgazebo_ros_planar_move.so">
      <robotNamespace>minibot</robotNamespace>
      
      <commandTopic>cmd_vel</commandTopic>
      <odometryTopic>odom</odometryTopic>
      <odometryFrame>odom</odometryFrame>
      <odometryRate>100.0</odometryRate>
      <robotBaseFrame>base_link</robotBaseFrame>
    </plugin>
  </gazebo> -->
  <!-- Enable the Joint Feedback -->
  <gazebo reference="right_knee">
    <provideFeedback>true</provideFeedback>
  </gazebo>
  <!-- The ft_sensor plugin -->
  <gazebo>
    <plugin filename="libgazebo_ros_ft_sensor.so" name="ft_sensor">
      <updateRate>100.0</updateRate>
      <topicName>ft_sensor_topic</topicName>
      <jointName>right_knee</jointName>
    </plugin>
  </gazebo>
</robot>
